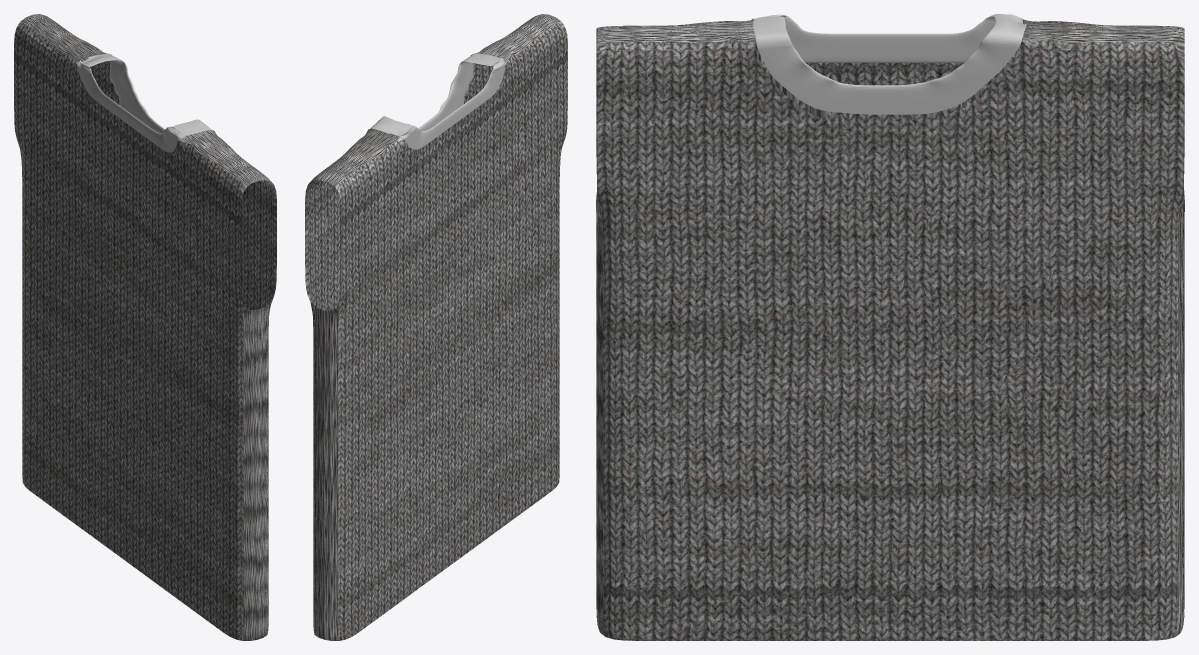
Rendered from round-neck.fbx.
3 renders of one model, left to right at view 1: azimuth 30°, elevation 25°; view 2: azimuth 150°, elevation 25°; view 3: azimuth 270°, elevation 25°, orthographic. The views are drawn at different scales.
Parts seen in each view (by area): view 1: Cube.001, Plane.001, Plane.002; view 2: Cube.001, Plane.001, Plane.002; view 3: Cube.001, Plane.001, Plane.002.
Boxes of the visible parts, x1,y1,x2,y2 form: Cube.001: (14, 14, 276, 640); Plane.001: (79, 54, 211, 134); Plane.002: (77, 60, 186, 152); Cube.001: (305, 14, 567, 640); Plane.001: (370, 53, 501, 136); Plane.002: (398, 57, 505, 149); Cube.001: (596, 19, 1184, 640); Plane.001: (752, 14, 1026, 114); Plane.002: (751, 14, 1024, 62).
Bounding box in the file's own units: 15.45 × 181 × 159.
